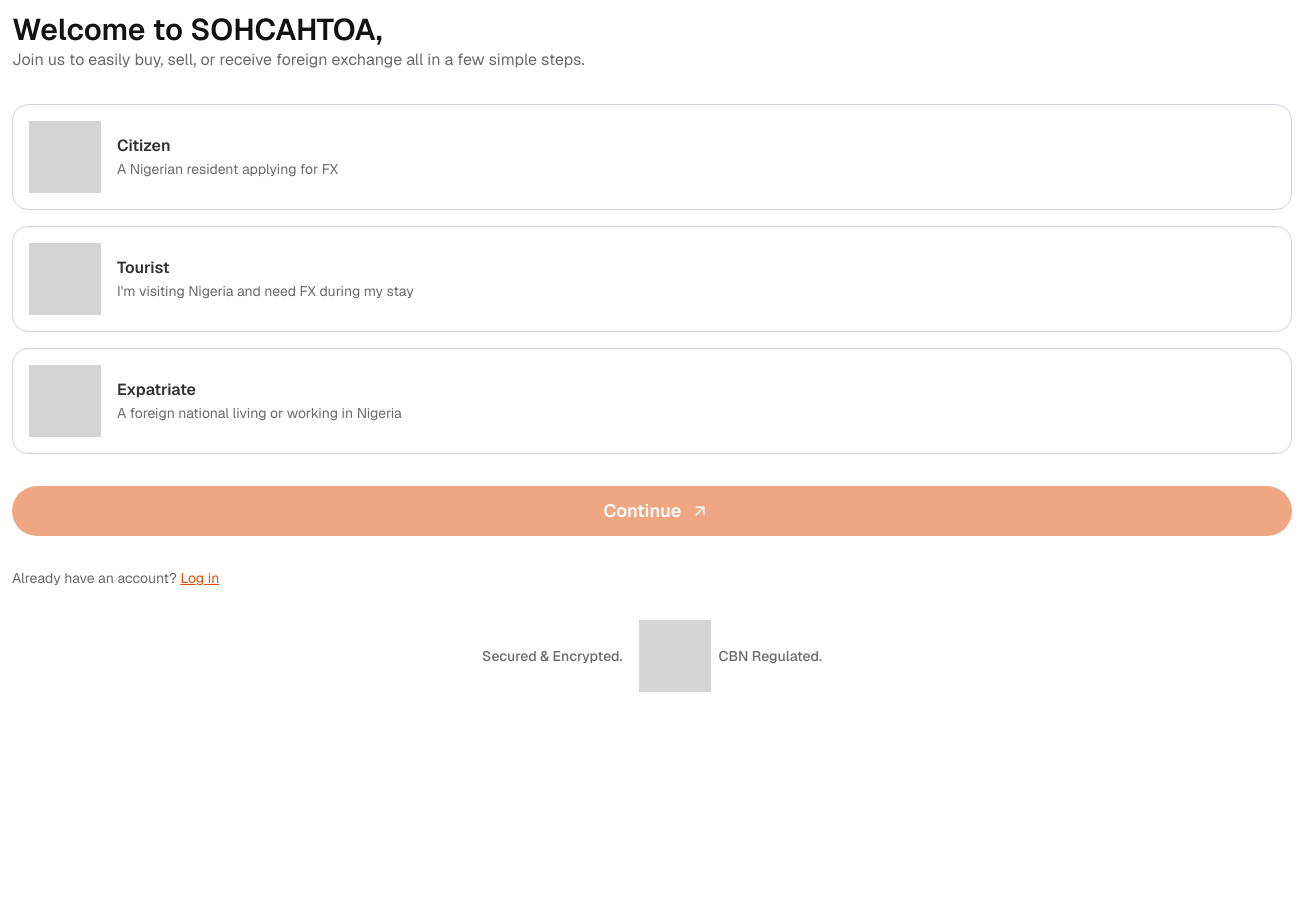
Test case: Onboarding page › enables Continue when a type is selected
What coordinates should you click on to do the following:
click the button "Citizen A Nigerian resident applying for FX"
I would click on:
 (65, 157)
Its box is [12,104,1292,210].
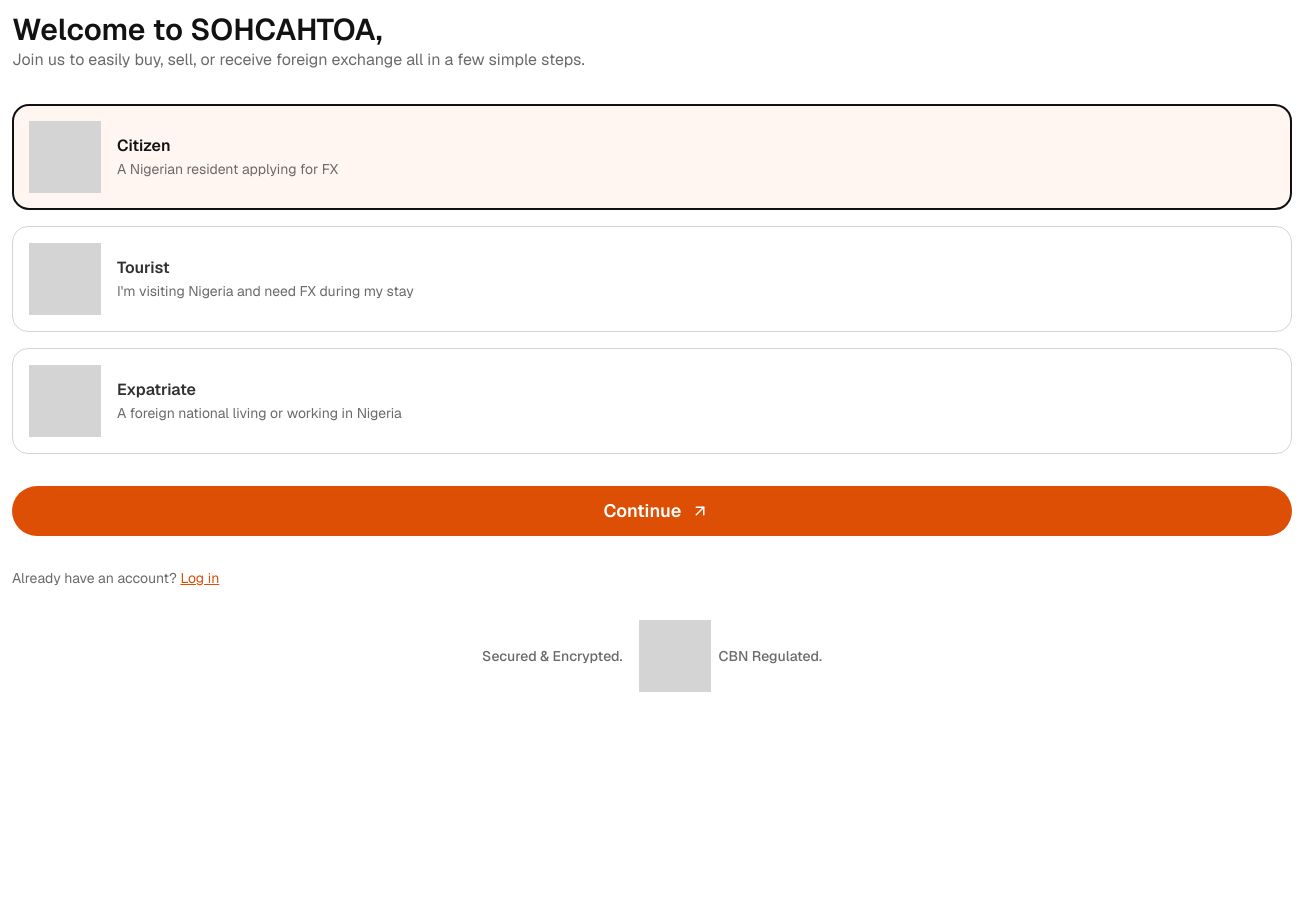
Result: the button "Continue" is enabled at [12,486,1292,536]
